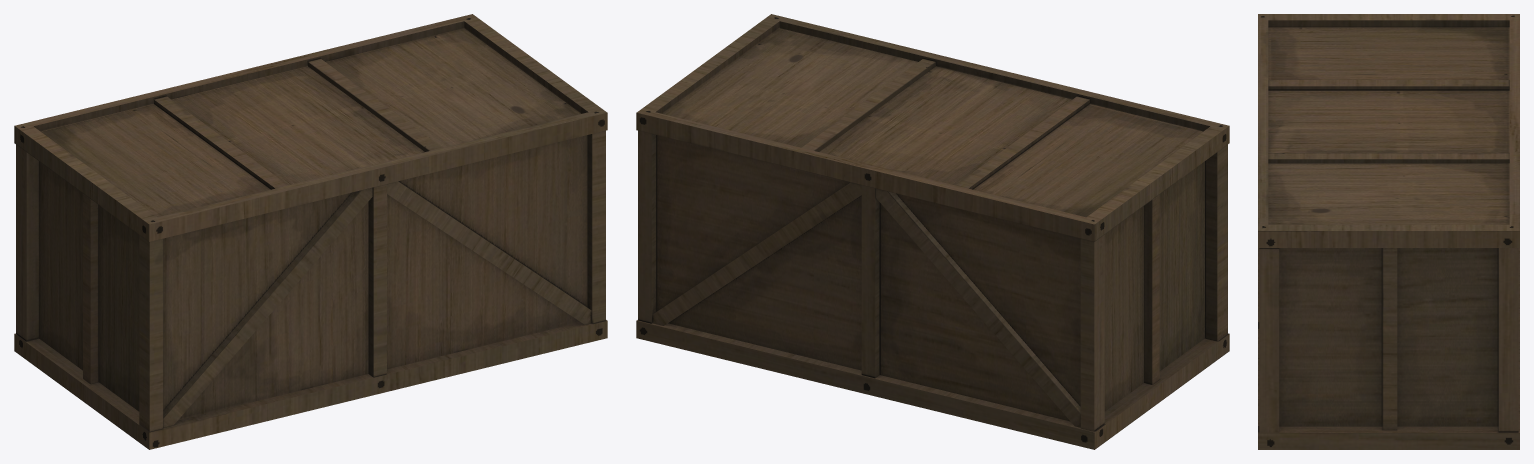
File: Crate2.obj
3 views of the same model, side by side, from view 1: azimuth 30°, elevation 25°; view 2: azimuth 150°, elevation 25°; view 3: azimuth 270°, elevation 25° (orthographic). The views are drawn at different scales.
Parts seen in each view (by area): view 1: Crate02_Cube; view 2: Crate02_Cube; view 3: Crate02_Cube.
Part boxes in pixels (x1,y1,x2,y2): Crate02_Cube: [14, 14, 607, 449]; Crate02_Cube: [636, 14, 1229, 449]; Crate02_Cube: [1258, 14, 1519, 449].
Size of the model in its own units: 1.72 by 0.81 by 0.8783.
